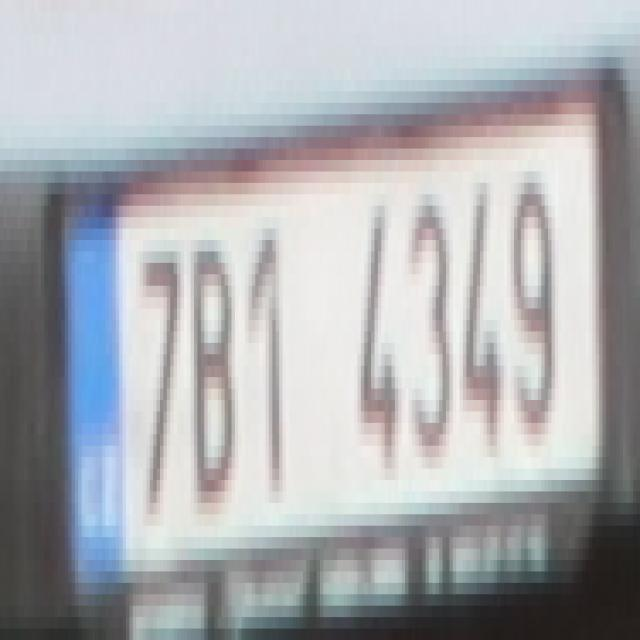1: (238, 217, 283, 469)
3: (404, 172, 450, 434)
4: (459, 160, 504, 446), (361, 206, 402, 468)
7: (139, 240, 184, 526)
9: (510, 148, 556, 434)
B: (190, 239, 236, 492)
